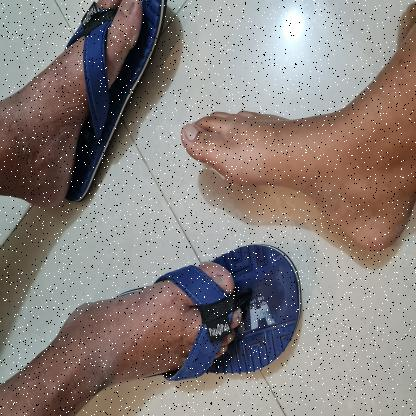leg: (176, 16, 416, 254), (0, 251, 246, 416), (0, 0, 150, 216)
